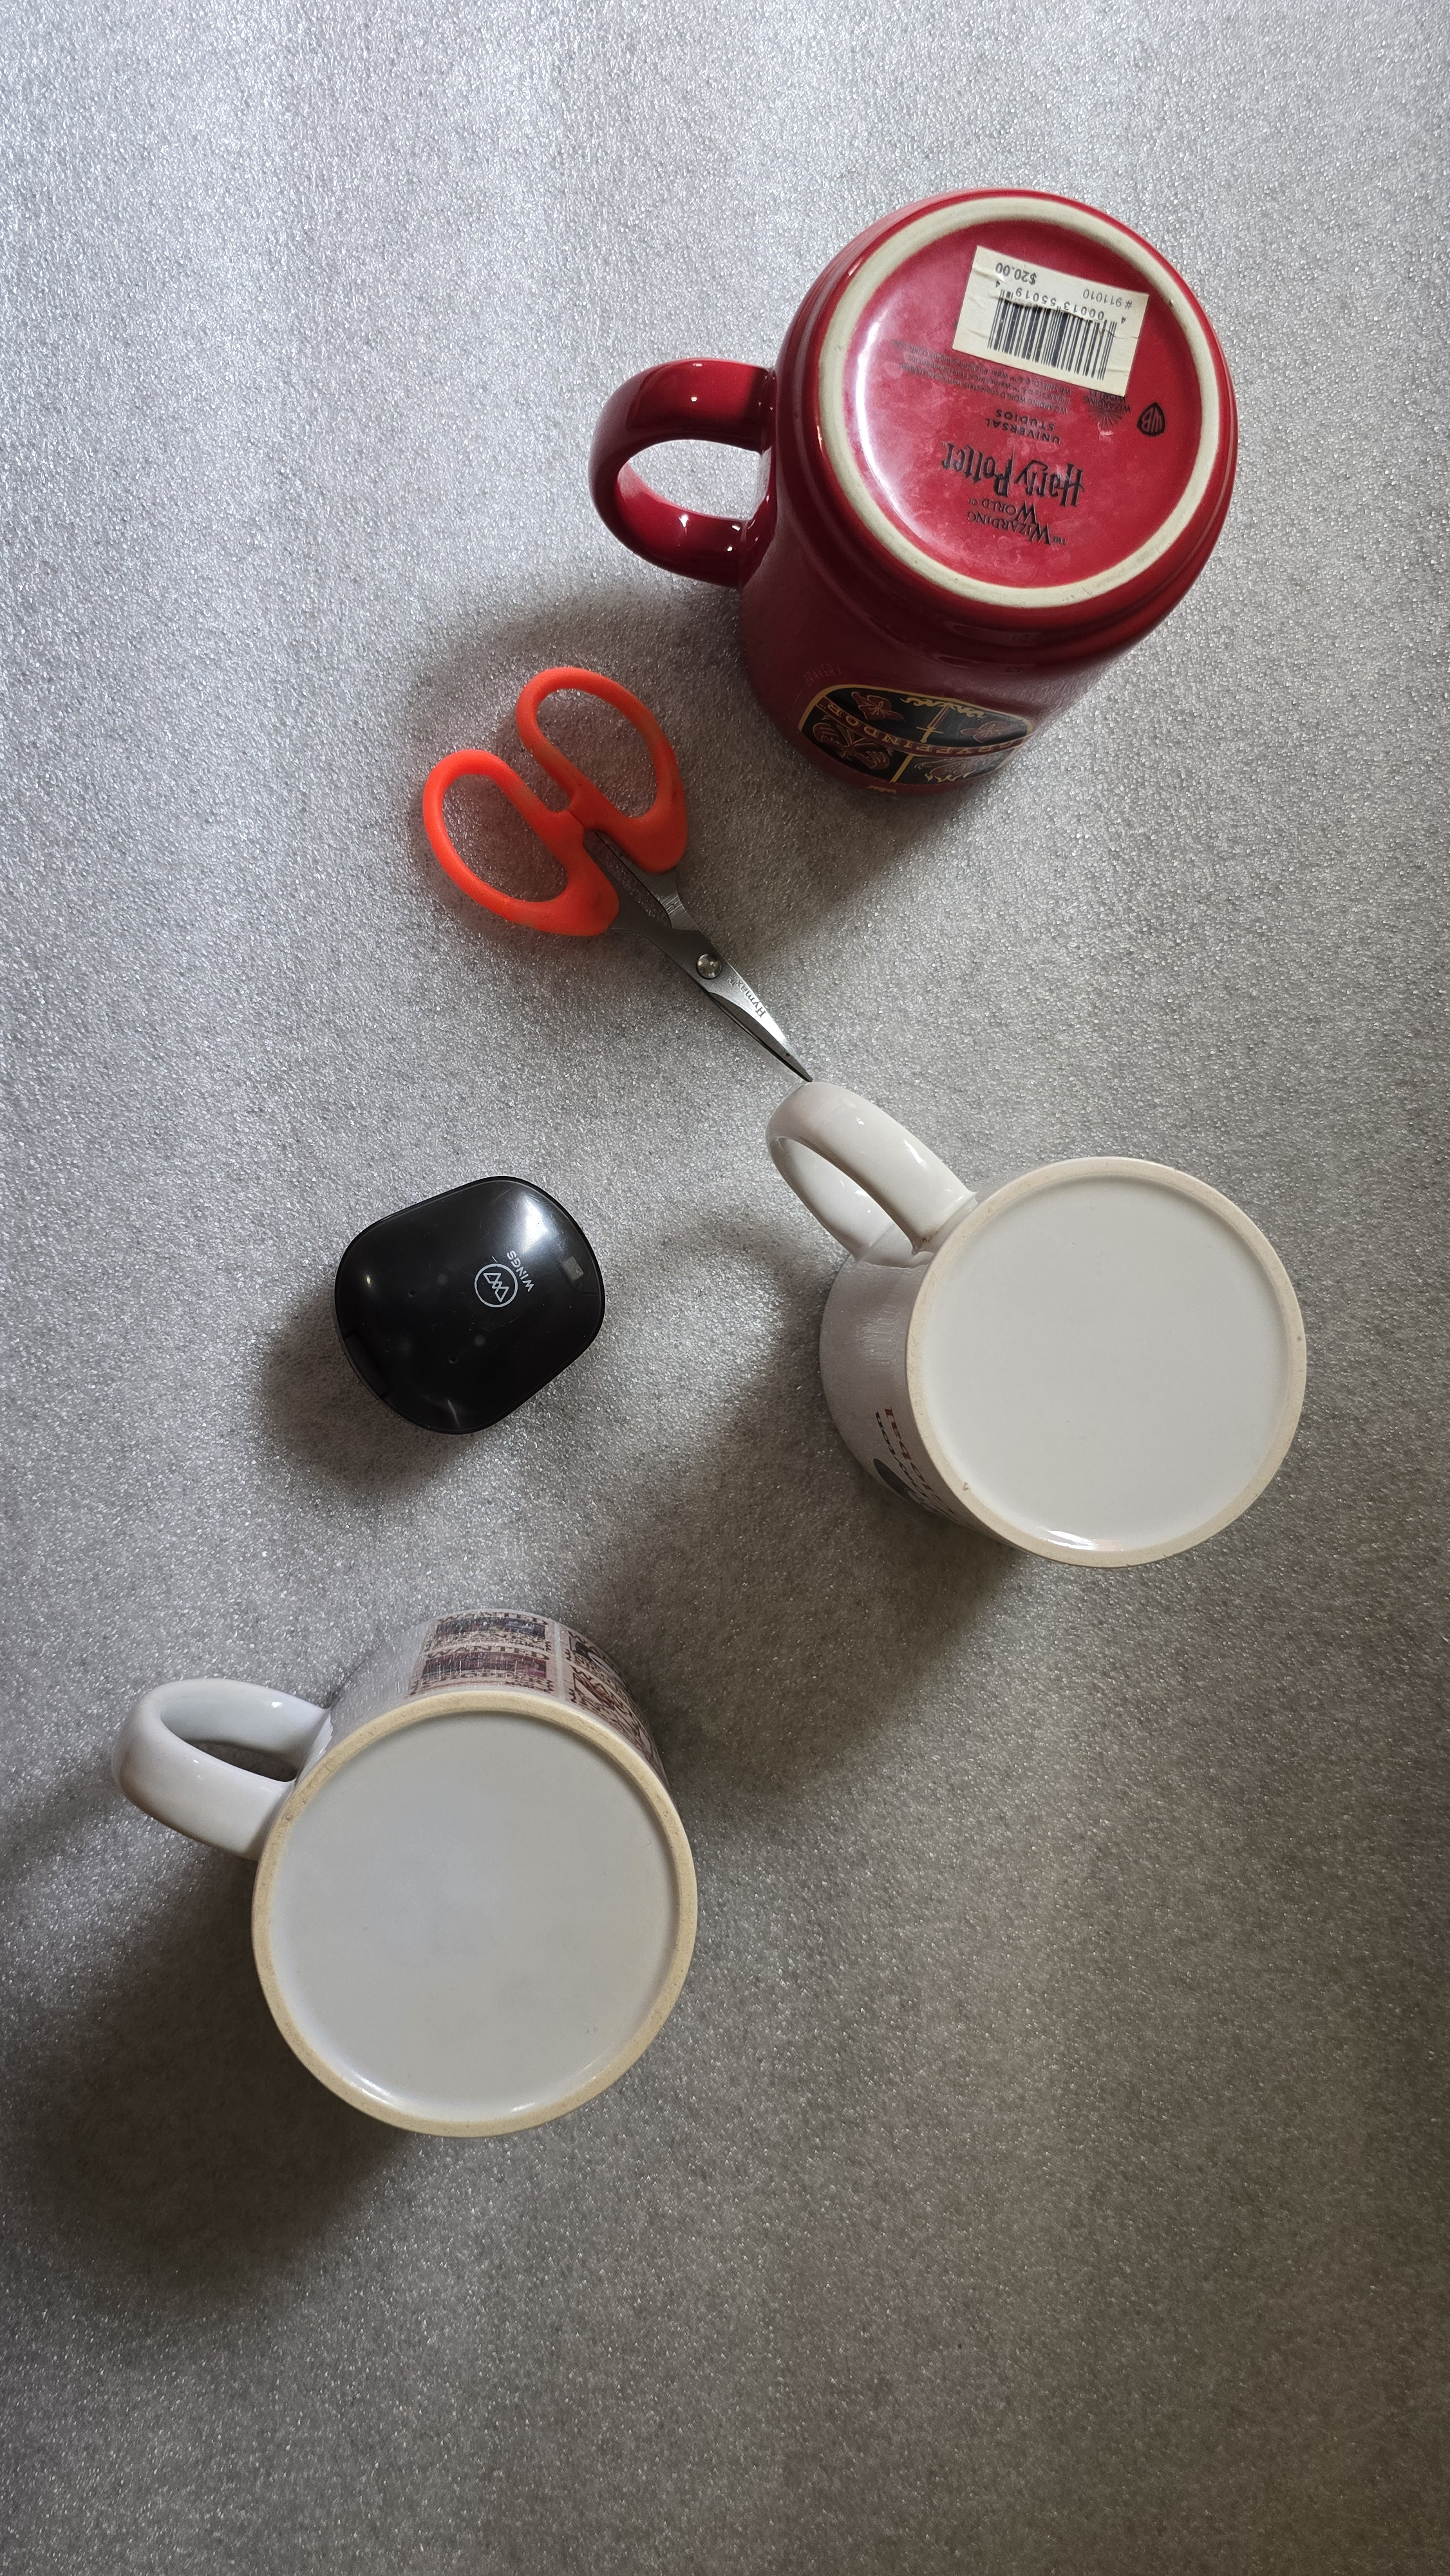mug: (564, 184, 1291, 791), (92, 1612, 806, 2162), (755, 1049, 1393, 1599)
